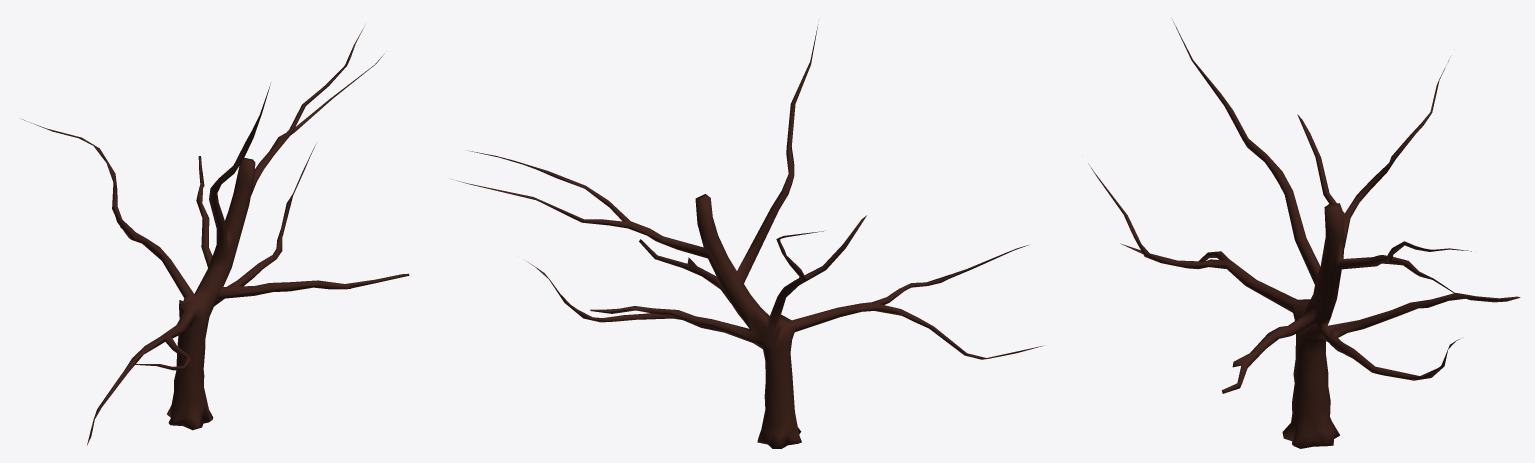
Rendered from dead_tree_h.FBX.
3 renders of one model, left to right at view 1: azimuth 30°, elevation 25°; view 2: azimuth 150°, elevation 25°; view 3: azimuth 270°, elevation 25°, orthographic. The views are drawn at different scales.
Visible parts, largest first — view 1: dead_tree_h; view 2: dead_tree_h; view 3: dead_tree_h.
Boxes of the visible parts, left/top/right/bottom form: dead_tree_h: left=22, top=28, right=409, bottom=445; dead_tree_h: left=452, top=20, right=1043, bottom=448; dead_tree_h: left=1088, top=19, right=1520, bottom=448.
Size of the model in its own units: 1270 by 992 by 904.
